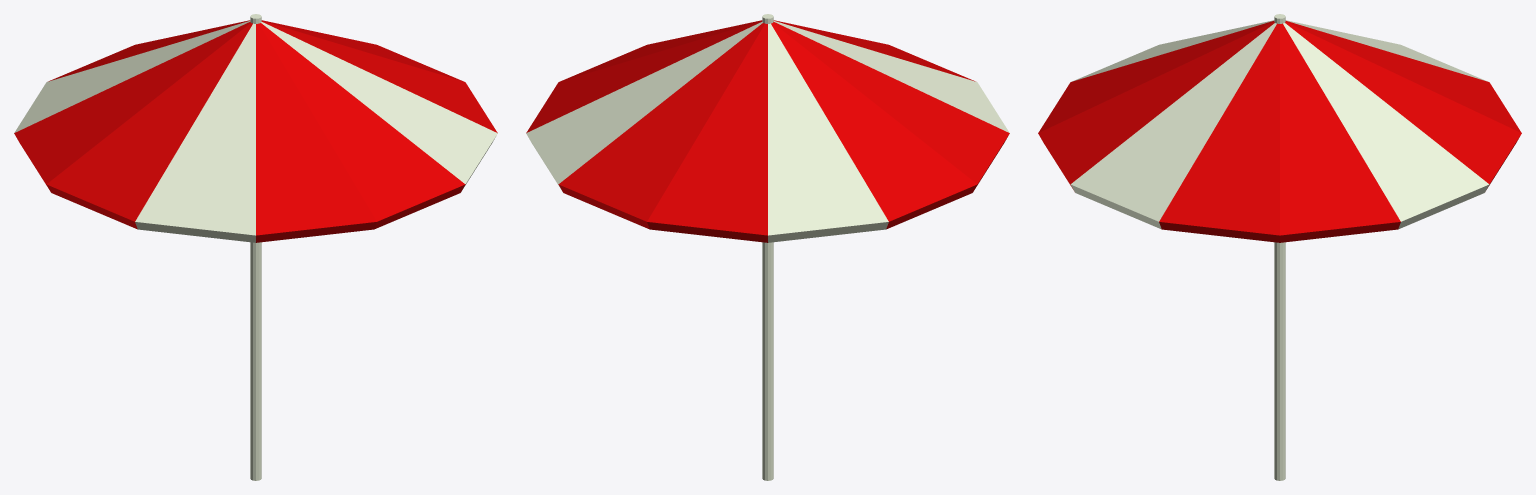
Rendered from umbrella_A.fbx.
The picture shows the model from 3 angles, left to right: view 1: azimuth 30°, elevation 25°; view 2: azimuth 150°, elevation 25°; view 3: azimuth 270°, elevation 25°; orthographic projection.
Parts seen in each view (by area): view 1: umbrella_A; view 2: umbrella_A; view 3: umbrella_A.
Boxes of the visible parts, <box> form: umbrella_A: <box>14,14,497,480</box>; umbrella_A: <box>526,14,1009,480</box>; umbrella_A: <box>1038,14,1521,480</box>.
Bounding box in the file's own units: 200 × 211 × 200.
Materials: 1 (1 with a texture image).
